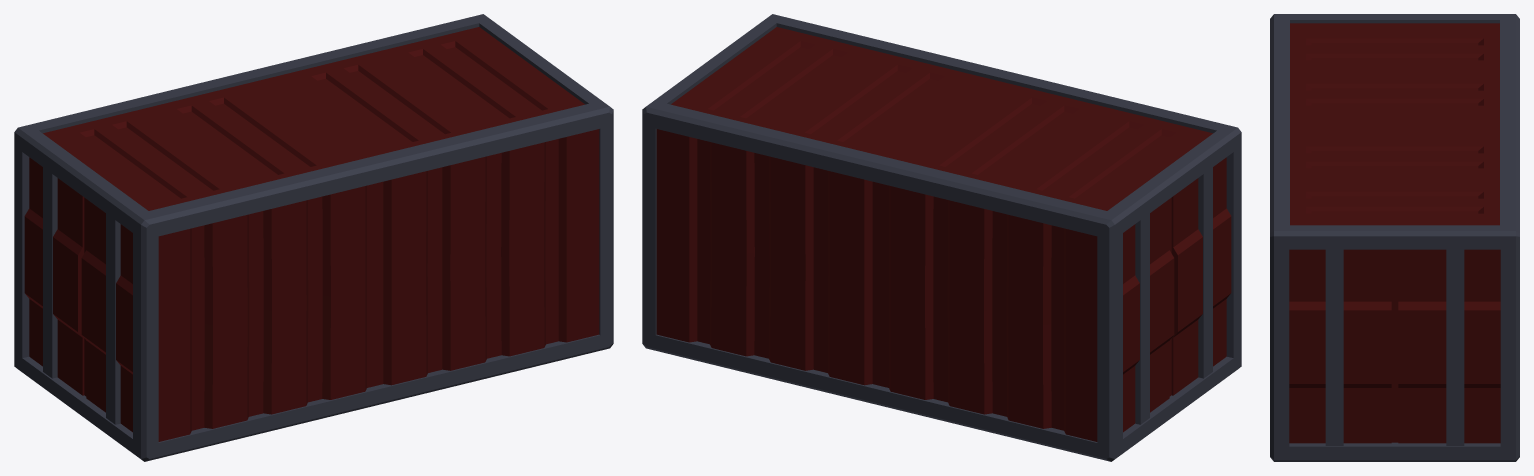
Rendered from Container_Long.obj.
3 renders of one model, left to right at view 1: azimuth 30°, elevation 25°; view 2: azimuth 150°, elevation 25°; view 3: azimuth 270°, elevation 25°, orthographic. The views are drawn at different scales.
Visible parts, largest first — view 1: Container_Long_Cube.012; view 2: Container_Long_Cube.012; view 3: Container_Long_Cube.012.
Part boxes in pixels (box(x1,y1,x2,y2)): Container_Long_Cube.012: box(14, 14, 613, 461); Container_Long_Cube.012: box(642, 14, 1241, 461); Container_Long_Cube.012: box(1270, 14, 1519, 461).
Size of the model in its own units: 4.36 by 2.13 by 2.09.
